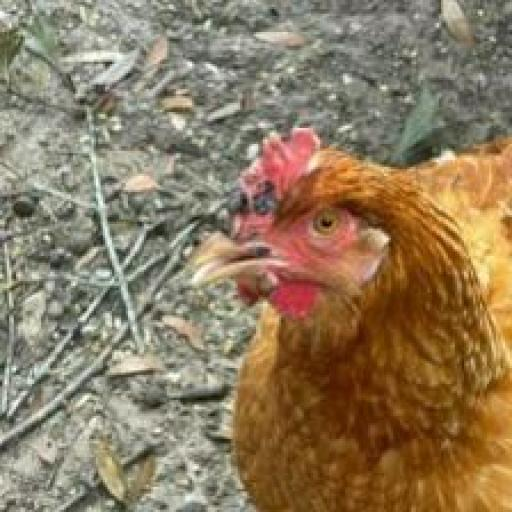disease: (208, 157, 280, 235)
